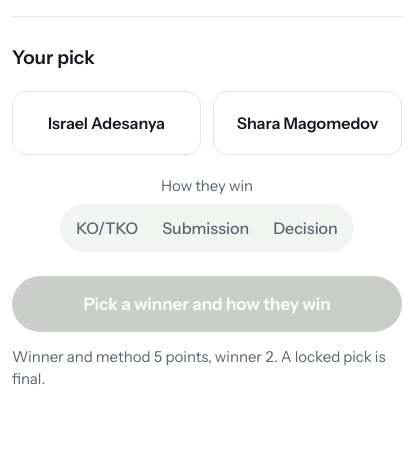
it: submit failures › re-fetches after an unclear failure and keeps the choice when nothing was stored
Expected: the element named "Pick a winner" is shown, left=12, top=91, right=402, bottom=155
What coordinates should you click on to do the following:
click the button "Shara Magomedov"
I would click on:
 (308, 123)
Its box is left=213, top=91, right=402, bottom=155.
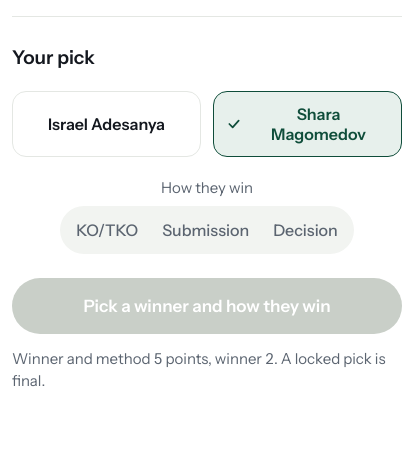
What coordinates should you click on to do the following:
click the button "Decision"
I would click on:
 (305, 230)
Its box is left=261, top=210, right=350, bottom=250.
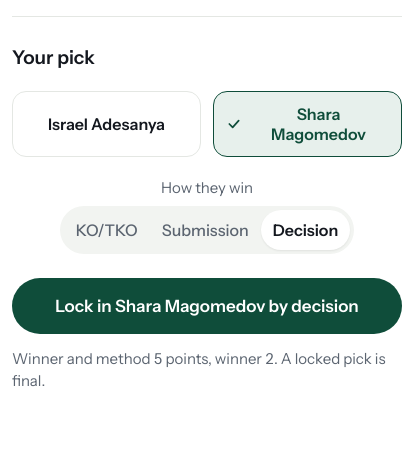
What coordinates should you click on to do the following:
click the button "Lock in Shara Magomedov by decision"
I would click on:
 (207, 306)
Its box is left=12, top=278, right=402, bottom=334.
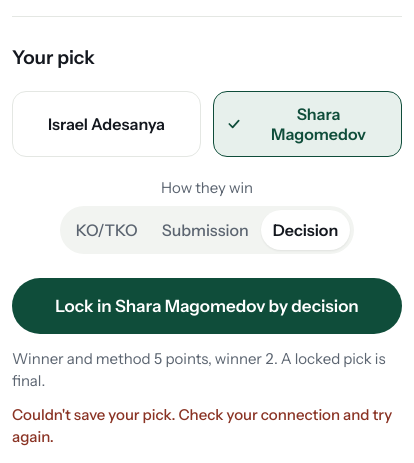
Now the button "Lock in Shara Magomedov by decision" is enabled, box left=12, top=278, right=402, bottom=334
Now the message reads "Couldn't save your pick. Check your connection and try again.", box left=12, top=405, right=392, bottom=446
